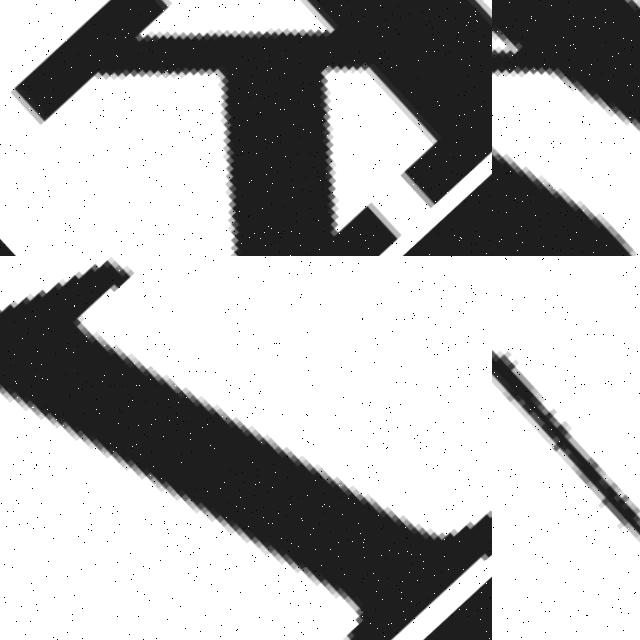1: (0, 256, 492, 640)
H: (492, 0, 640, 138), (492, 151, 632, 256)
J: (492, 256, 640, 640)
K: (0, 0, 492, 256)
